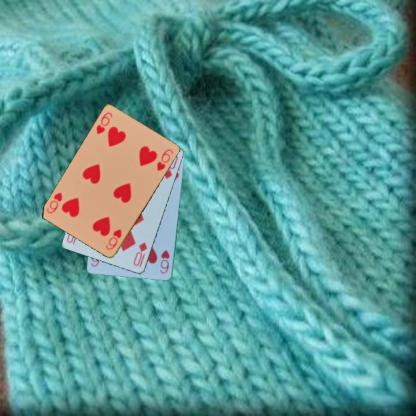10d: (130, 240, 148, 267)
6h: (94, 110, 114, 136), (103, 226, 123, 251), (158, 247, 171, 275)
